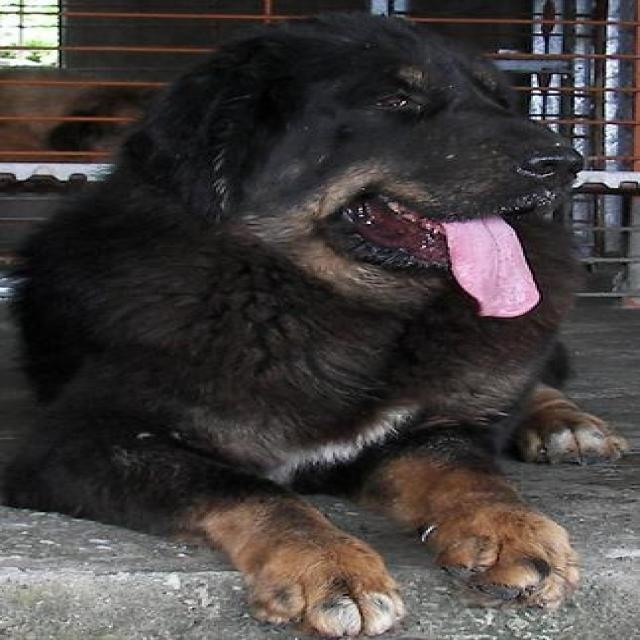happy: (116, 0, 622, 376)
